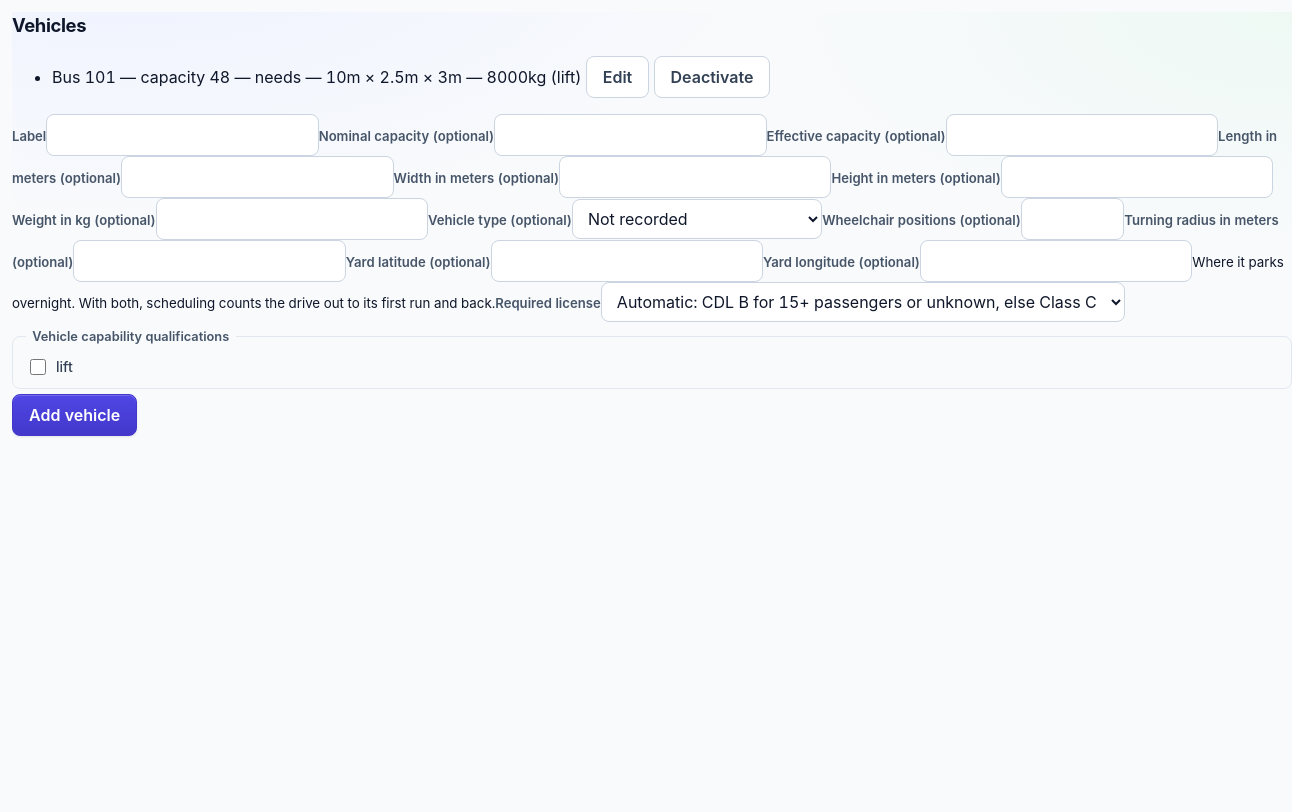
VehiclesSection › shows an error and keeps the form open when saving fails
Step 1. Click the button "Edit" → (617, 77), box [586, 56, 649, 98]
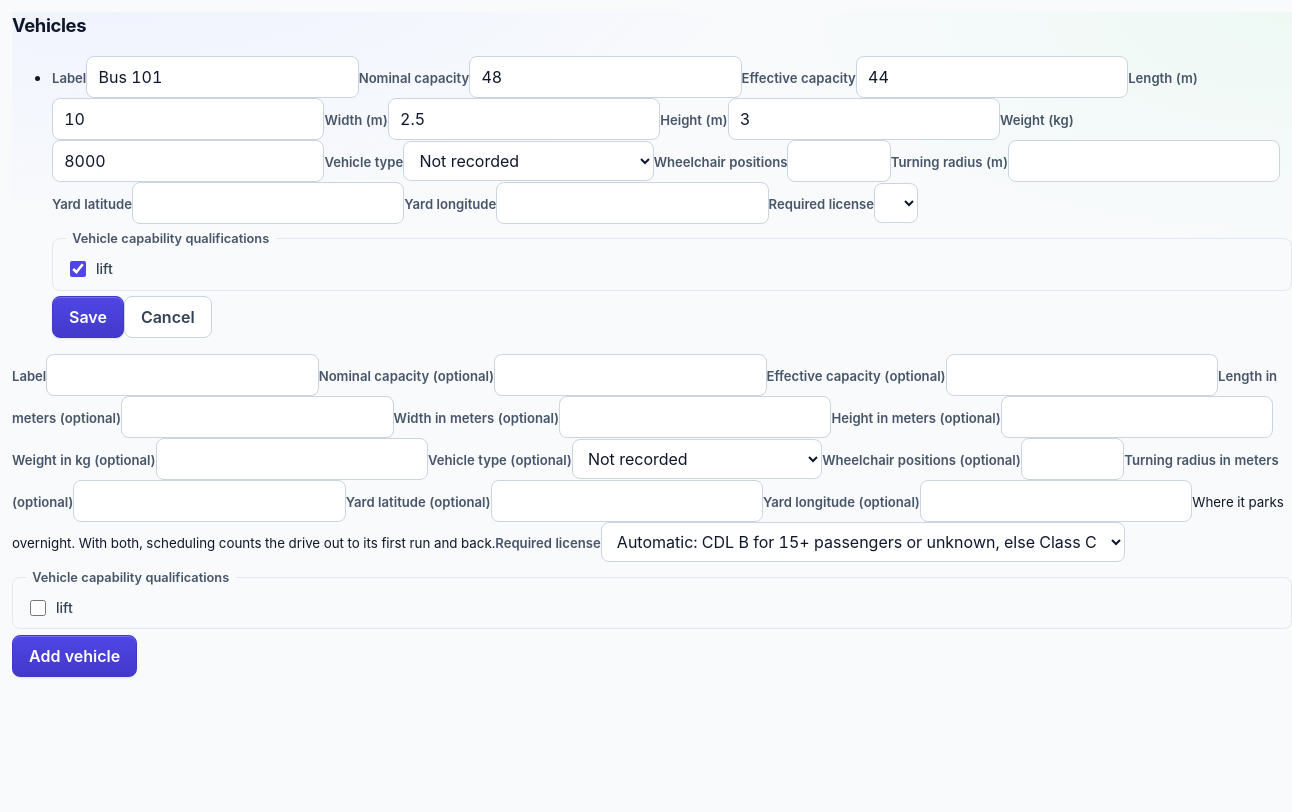
Step 2. Click the button "Save" → (88, 317), box [52, 296, 124, 338]
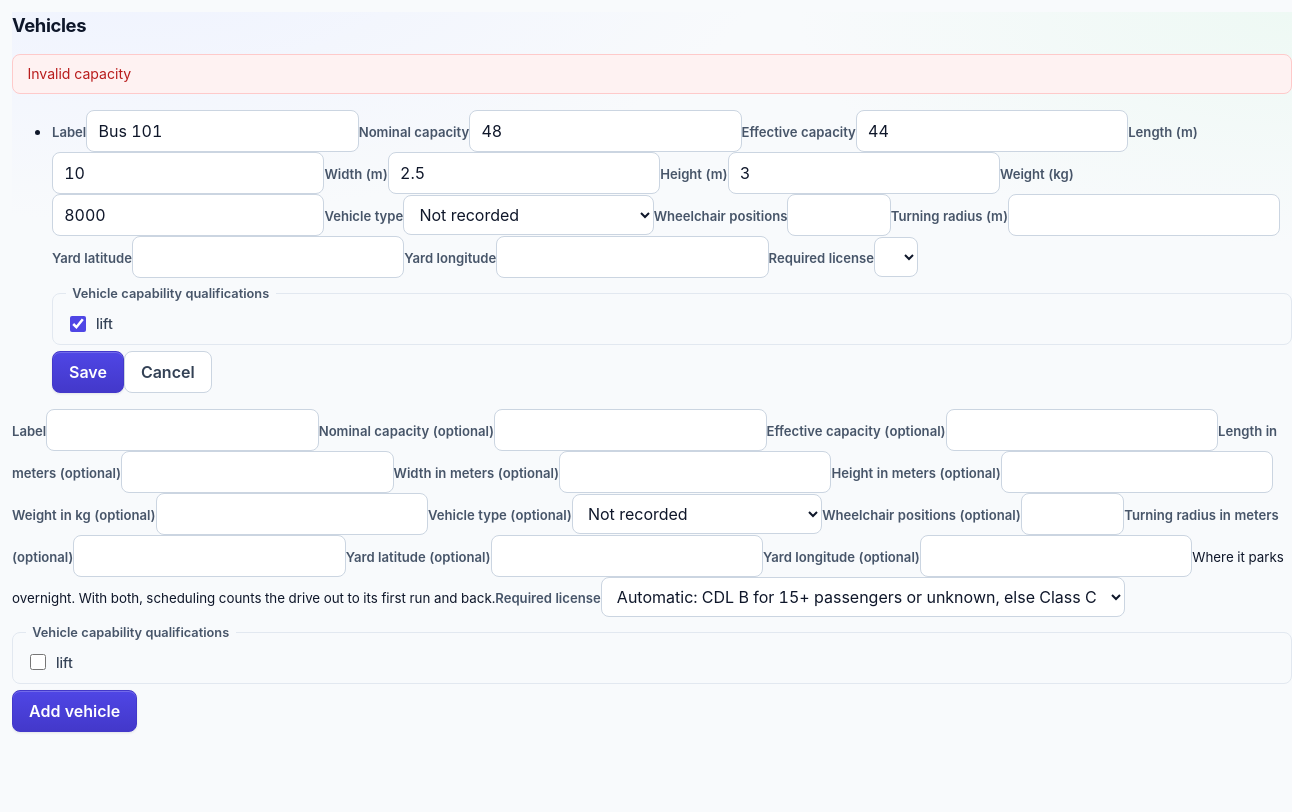
Check: the button "Save" is shown, box [52, 351, 124, 393]
Check: the message reads "Invalid capacity", box [27, 66, 131, 82]
